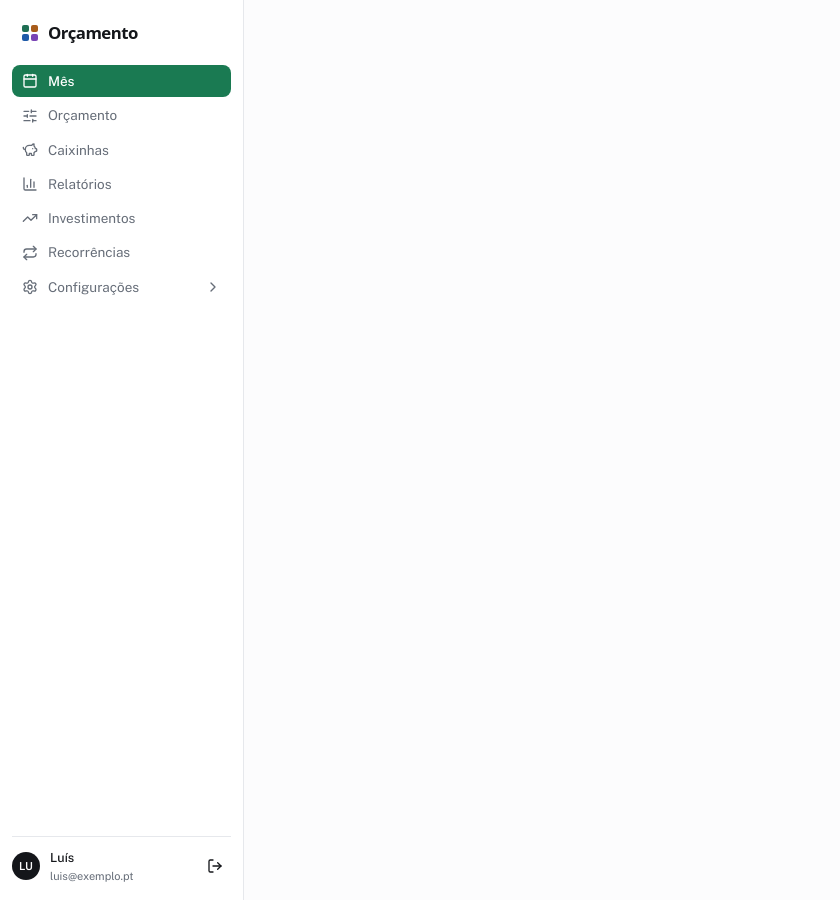
authentication flow › clears the session on logout and returns to the login screen
Click the button named "Sair": (215, 866) top-left (199, 850), bottom-right (231, 882)
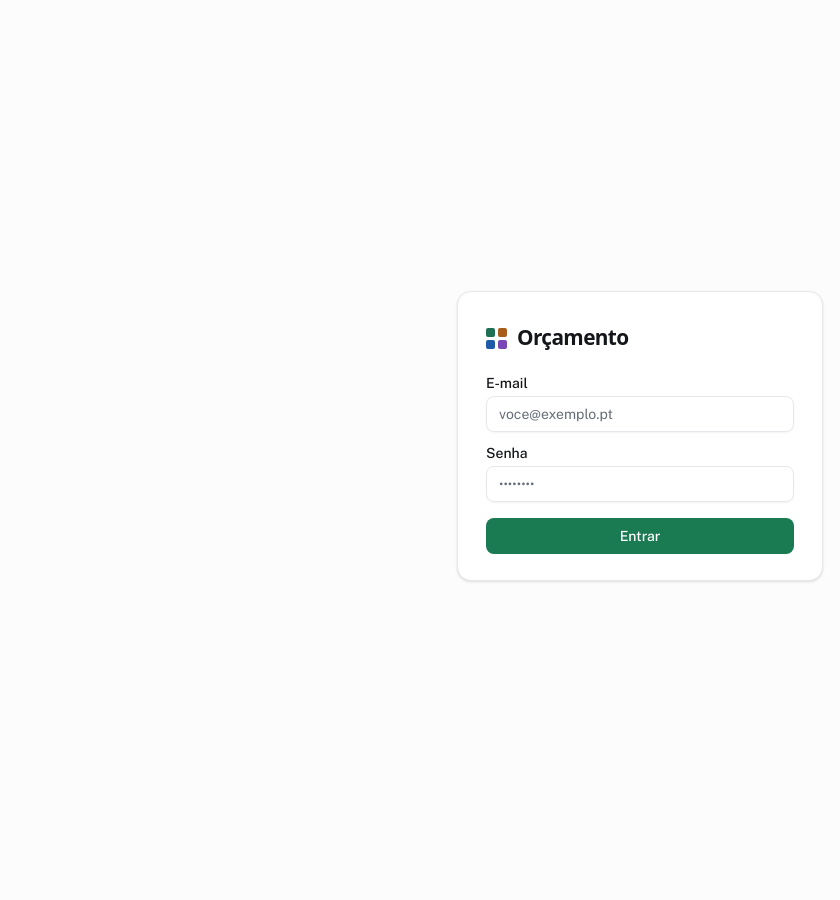
Expected: the field labelled "E-mail" is shown, top-left (486, 396), bottom-right (794, 432)
